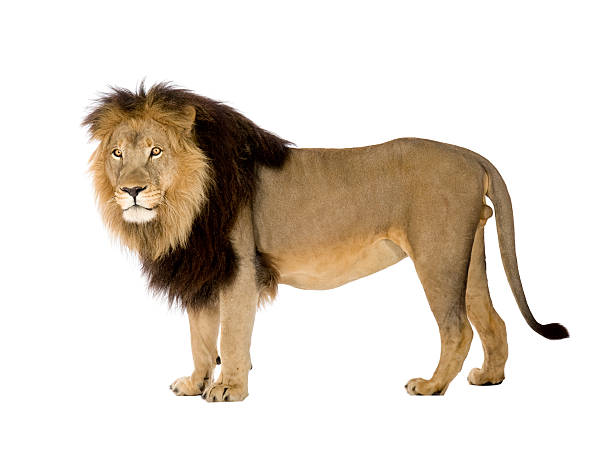lion: (58, 69, 276, 315)
